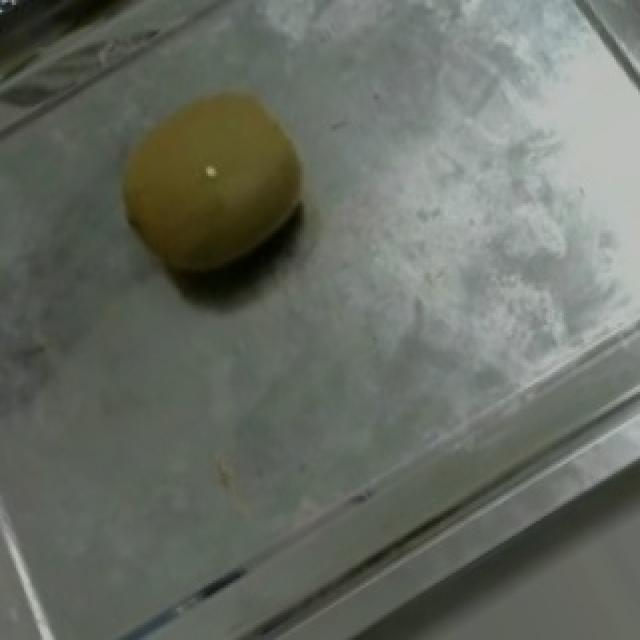Fruit: (80, 52, 344, 323)
